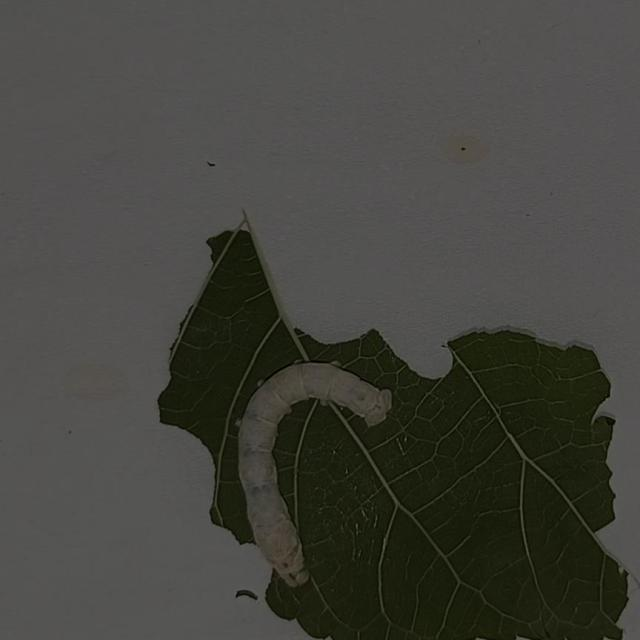Healthy: (209, 335, 429, 628)
